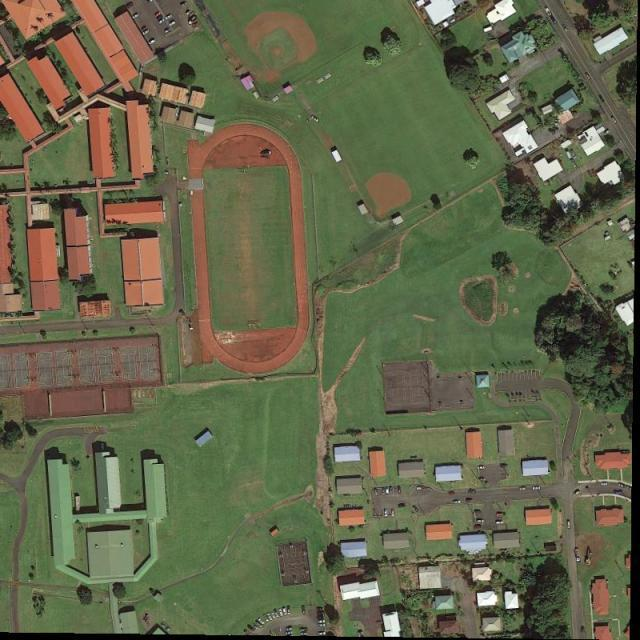vehicle: (188, 15, 198, 26), (550, 15, 558, 26), (569, 150, 578, 159), (156, 14, 165, 22), (247, 625, 256, 633), (546, 7, 553, 17), (158, 18, 166, 26), (310, 115, 318, 123), (610, 117, 618, 125), (258, 618, 266, 626), (165, 14, 174, 21), (148, 39, 157, 46), (126, 2, 135, 9), (263, 614, 270, 623), (256, 621, 263, 630), (140, 26, 148, 33), (599, 95, 606, 103), (585, 73, 592, 81), (548, 128, 556, 135), (571, 160, 578, 168), (587, 170, 594, 178), (591, 170, 598, 178), (282, 607, 288, 616), (267, 613, 273, 622), (575, 490, 582, 497), (413, 506, 420, 513), (154, 12, 162, 18), (169, 22, 177, 28), (164, 28, 172, 34), (142, 30, 150, 36), (132, 14, 140, 20), (618, 483, 626, 489), (398, 502, 406, 508), (417, 486, 426, 491), (253, 624, 259, 631), (604, 130, 610, 137), (180, 2, 188, 7), (101, 443, 105, 453), (287, 606, 291, 616), (279, 609, 284, 617), (271, 612, 276, 620), (453, 500, 461, 505), (186, 11, 192, 17), (613, 491, 622, 495), (302, 606, 306, 615), (384, 509, 388, 518), (390, 486, 394, 495), (391, 509, 395, 518), (533, 486, 542, 490), (497, 514, 506, 518), (275, 611, 280, 618), (601, 482, 609, 486), (300, 628, 308, 632), (318, 632, 326, 636), (318, 616, 326, 620), (318, 612, 326, 616), (374, 489, 378, 497), (382, 488, 386, 496), (386, 487, 390, 495), (398, 486, 402, 494), (466, 498, 474, 502), (469, 490, 477, 494), (478, 466, 486, 470), (500, 464, 508, 468), (572, 111, 578, 116), (553, 127, 559, 132), (318, 608, 325, 612), (449, 491, 456, 495), (519, 486, 526, 490), (300, 633, 309, 636), (582, 626, 585, 634), (318, 624, 326, 627), (318, 620, 326, 623), (286, 628, 294, 631), (286, 632, 294, 635), (554, 120, 558, 126), (567, 522, 570, 529), (479, 478, 486, 481), (147, 1, 153, 4), (496, 522, 505, 524), (474, 528, 482, 530), (477, 520, 485, 522)
